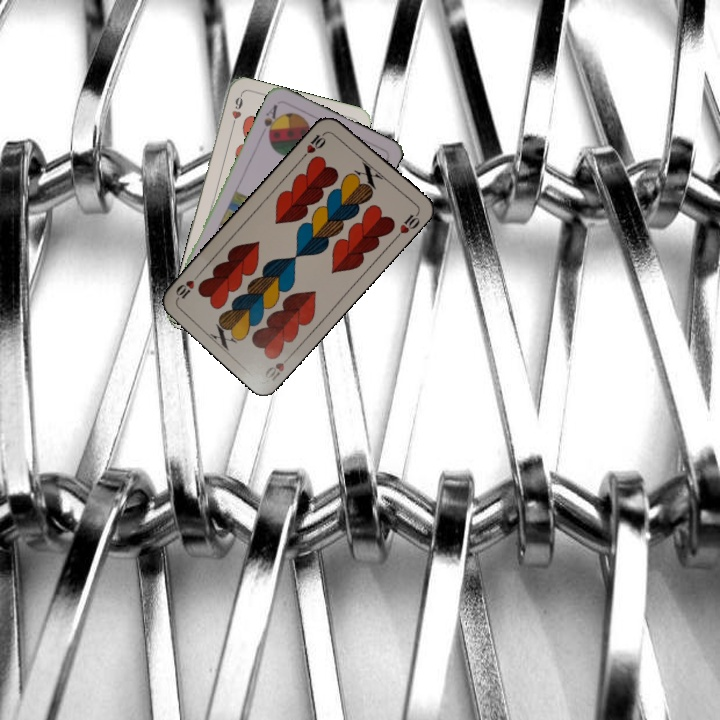H10: (261, 350, 295, 384), (299, 127, 331, 161)
H9: (227, 91, 245, 131)
SA: (260, 100, 282, 140)
